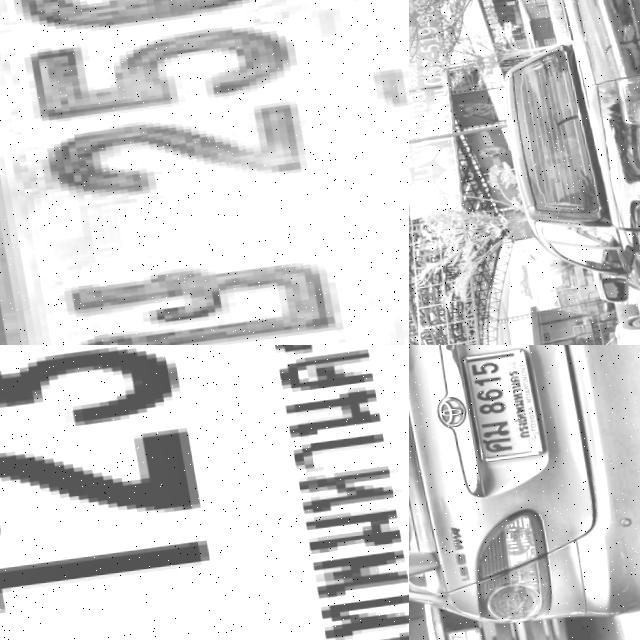license-plate: (0, 0, 409, 345), (0, 345, 409, 640), (450, 349, 538, 469)
